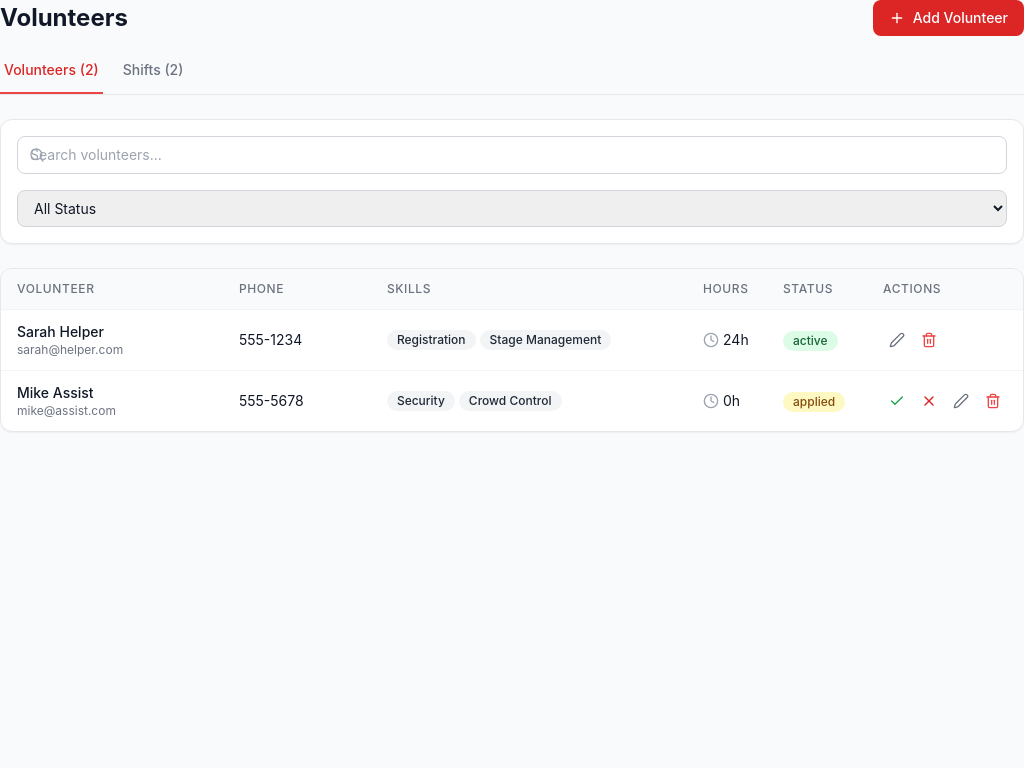
Volunteers › volunteer actions › opens delete confirmation when clicking Delete
expect the text "Sarah Helper" is shown: met, box [17,323,104,340]
Click the button titled "Delete" in the row of "Sarah Helper": (929, 340) [915,326,943,354]
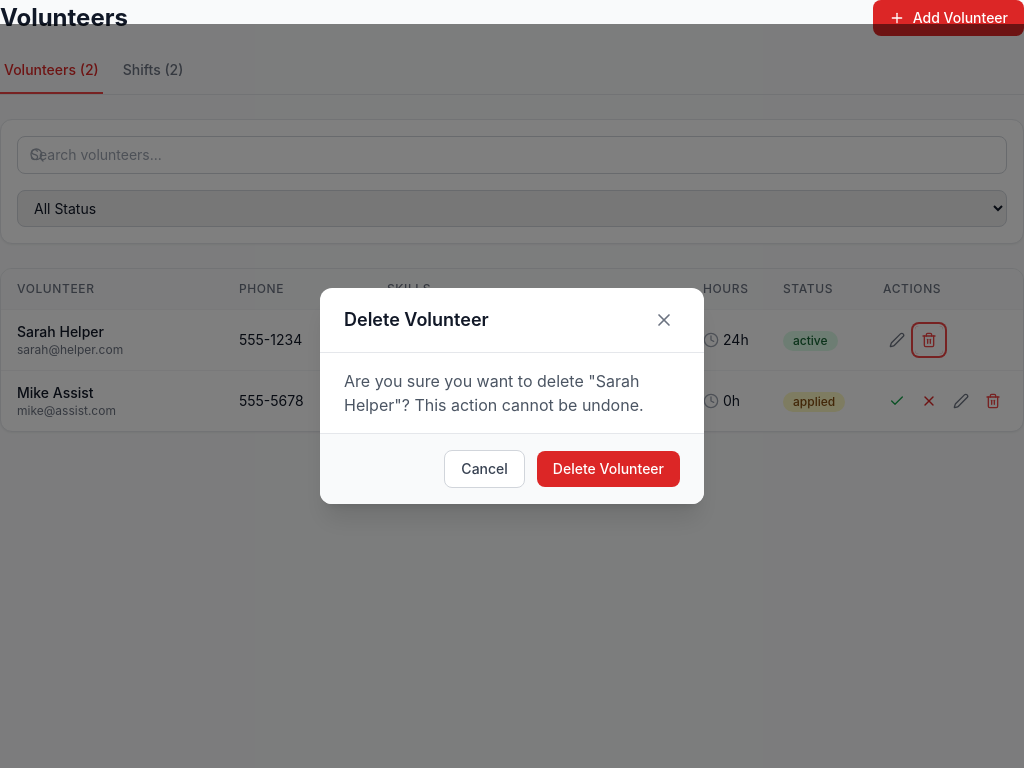
expect the text "Are you sure you want to delete \"Sarah Helper\"" is shown: met, box [344,371,644,415]
